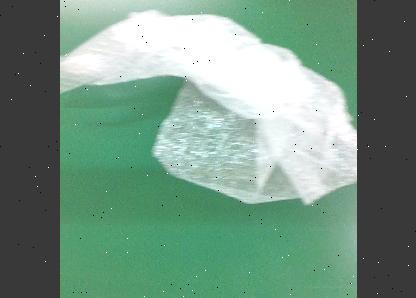Others: (59, 10, 355, 206)
